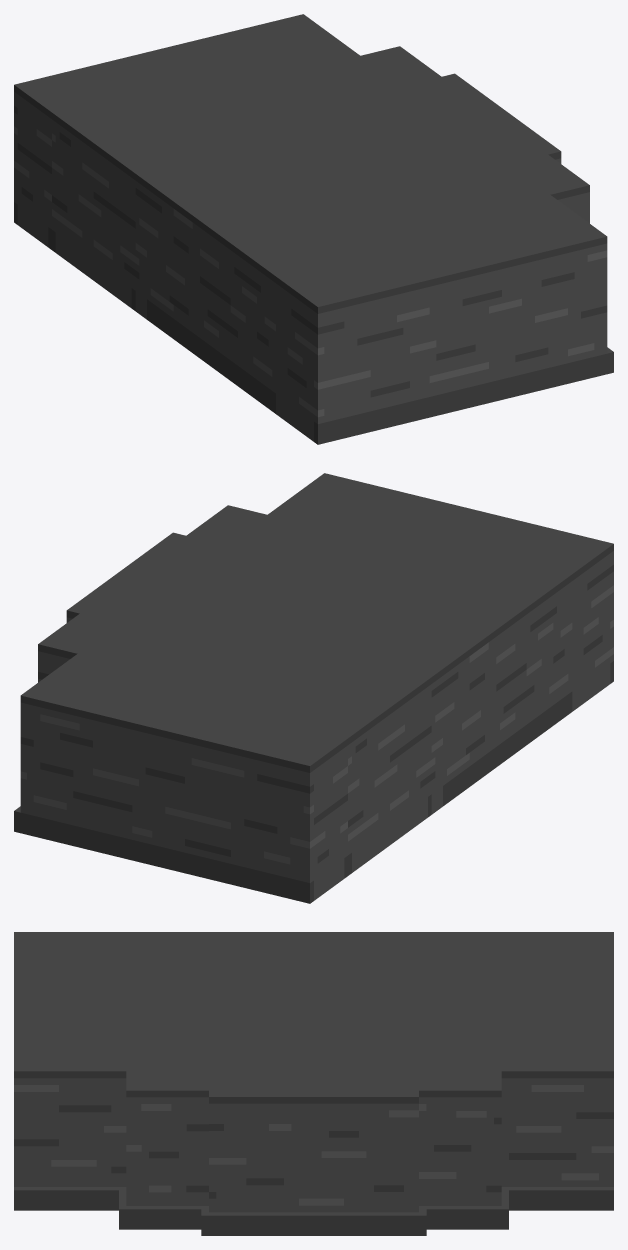
The model's file is Wall - MantleStyle.obj.
3 renders of one model, top to bottom at view 1: azimuth 30°, elevation 25°; view 2: azimuth 150°, elevation 25°; view 3: azimuth 270°, elevation 25°, orthographic.
Size of the model in its own units: 5.3 by 2 by 8.
Materials: 1 (1 with a texture image).
